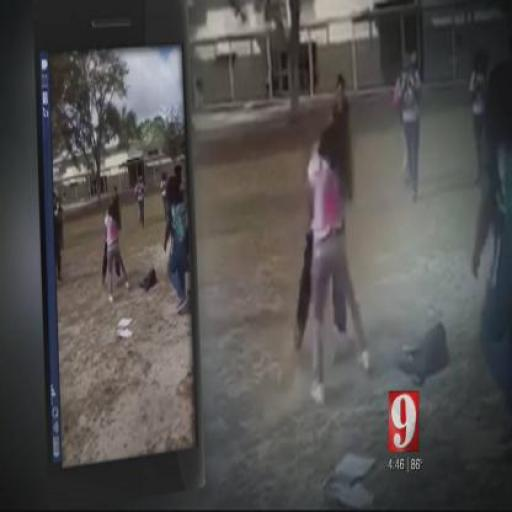Fighting: (266, 74, 390, 405), (80, 182, 140, 305)
